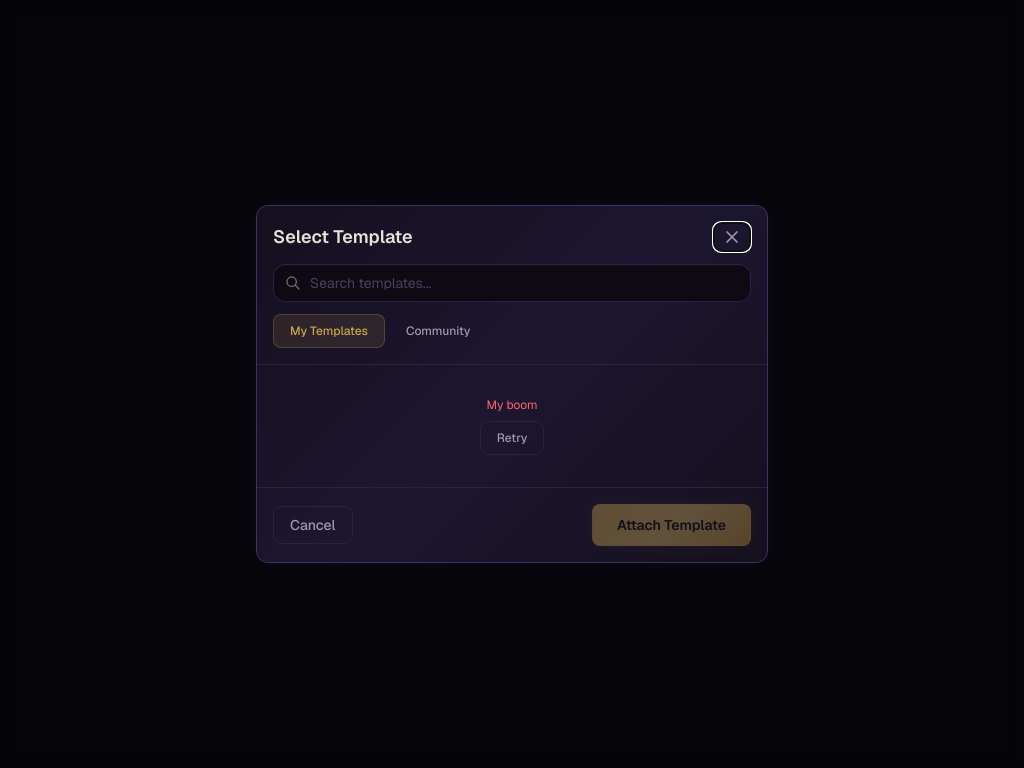
TemplatePickerModal › shows an error and retries fetching my templates
The width and height of the screenshot is (1024, 768).
Expected: the text "My boom" is shown, [486,397,537,413]
Click the button "Retry". click: (512, 438)
box: [480,421,544,455]
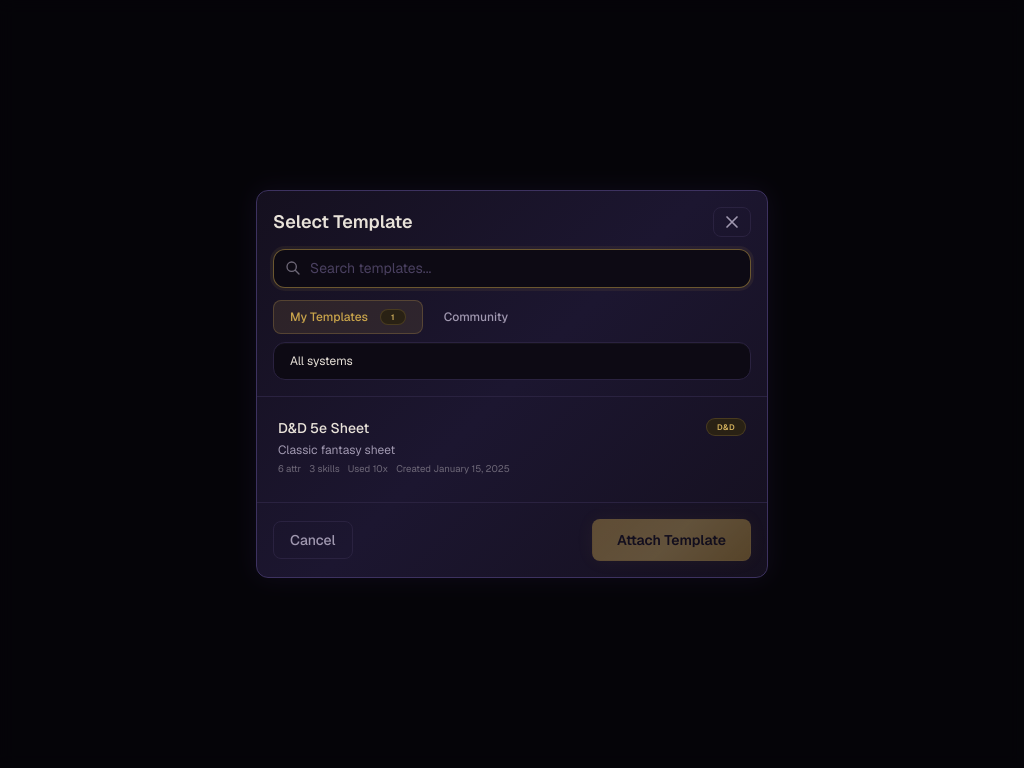
Expected: the text "D&D 5e Sheet" is shown, [278,418,369,438]
